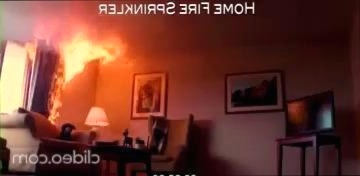fire: (33, 19, 131, 118)
